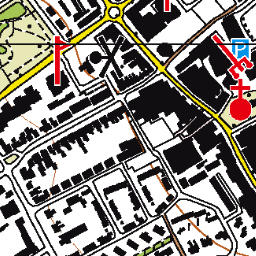church: (222, 75, 256, 123)
